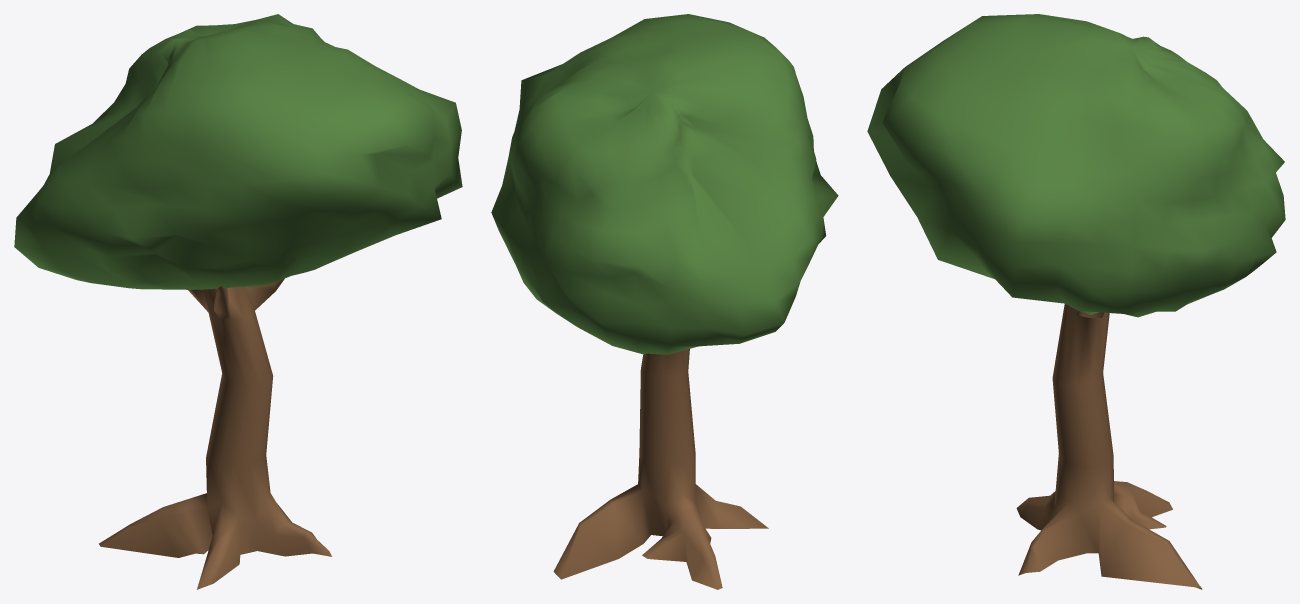
Rendered from tree1.fbx.
3 renders of one model, left to right at view 1: azimuth 30°, elevation 25°; view 2: azimuth 150°, elevation 25°; view 3: azimuth 270°, elevation 25°, orthographic. The views are drawn at different scales.
Parts seen in each view (by area): view 1: Tree1; view 2: Tree1; view 3: Tree1.
Part boxes in pixels (bbox=[...]): Tree1: bbox=[14, 14, 462, 589]; Tree1: bbox=[491, 14, 838, 589]; Tree1: bbox=[867, 14, 1285, 589].
Size of the model in its own units: 892 by 1234 by 889.
